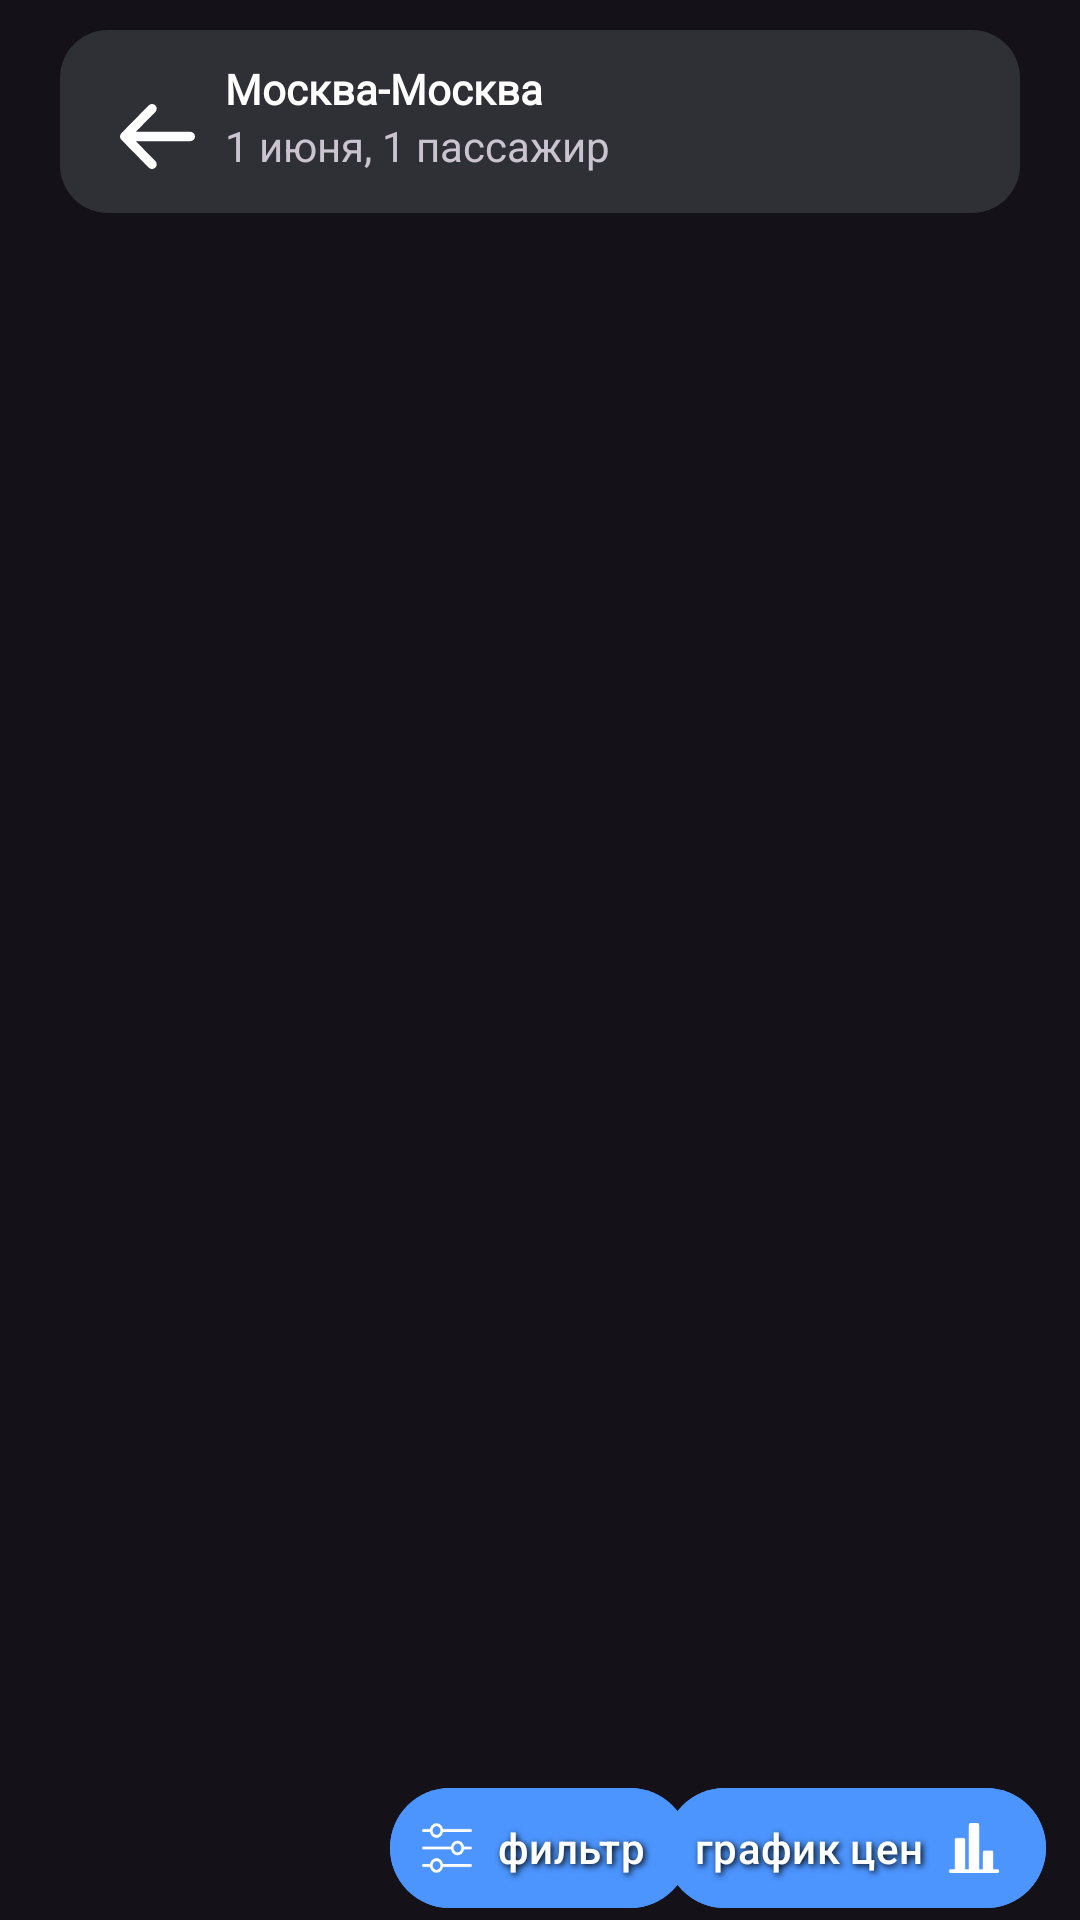

Locate icon controls on the screen. Image size 1080w x 1920h, boxes as [x1=x1, y1=y1, x2=x2, y2=y2].
arrow: [x1=120, y1=104, x2=195, y2=169]
